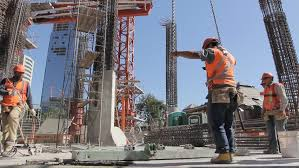helmet: (200, 36, 220, 46), (13, 63, 25, 73), (262, 70, 274, 80)
vest: (206, 50, 239, 90), (6, 80, 29, 108), (264, 86, 286, 112)
